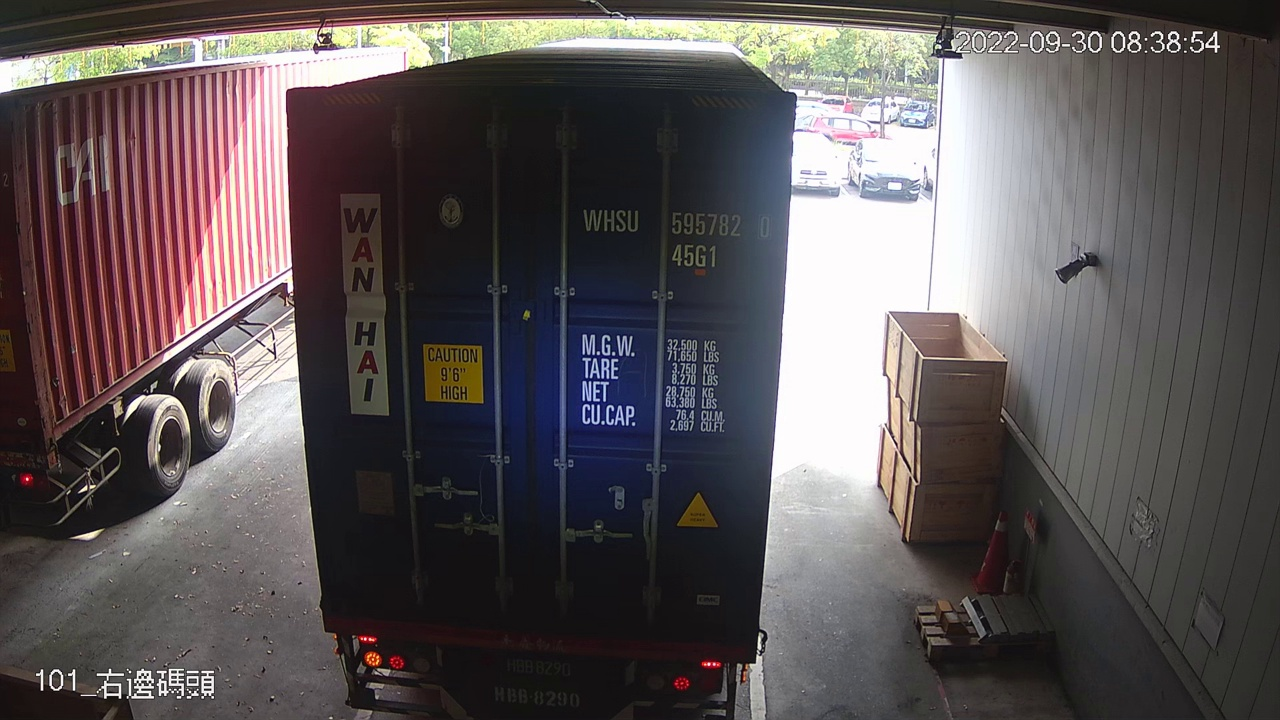container: (574, 200, 778, 273)
